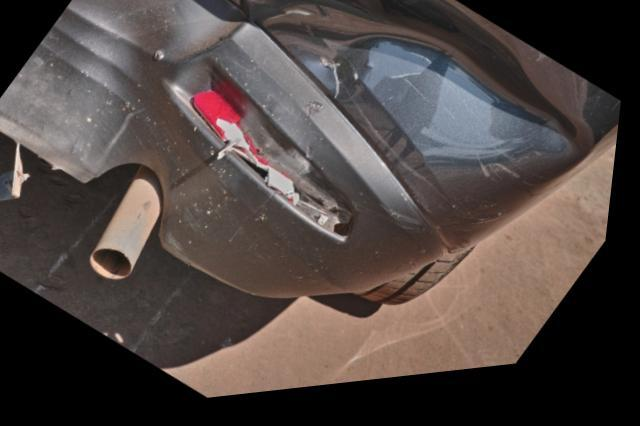dent: (262, 0, 600, 170), (62, 6, 176, 175)
no part: (177, 69, 359, 249)
